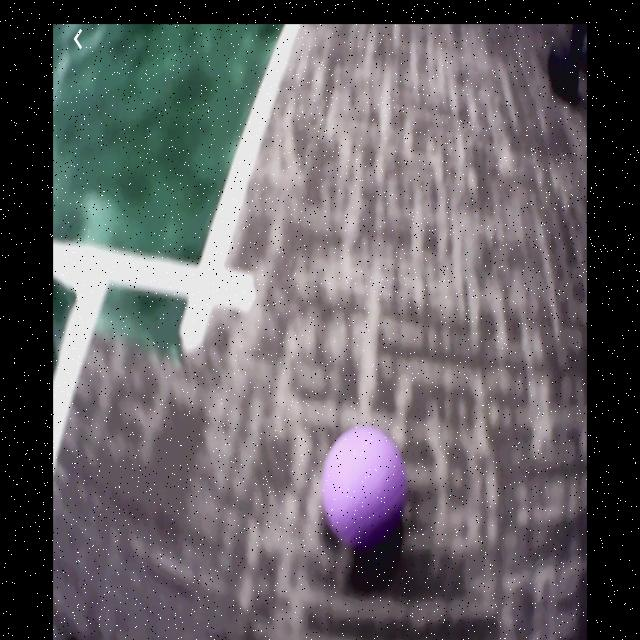ball: (326, 428, 409, 545)
